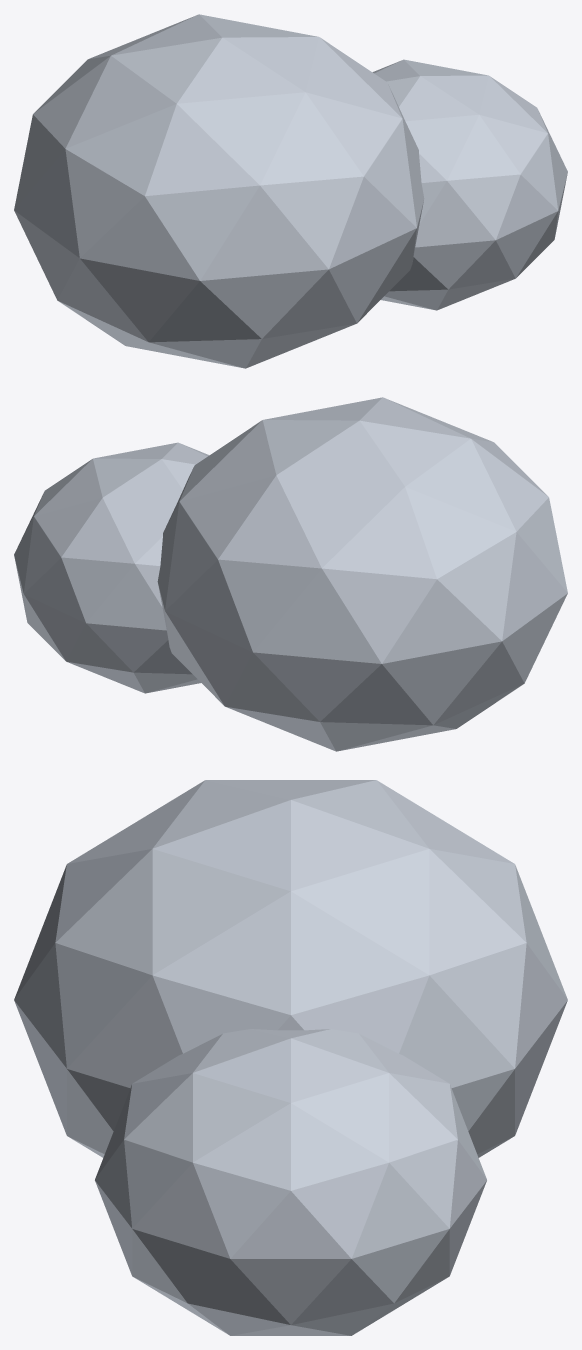
File: rock-type-A.fbx
3 views of the same model, one above another, from view 1: azimuth 30°, elevation 25°; view 2: azimuth 150°, elevation 25°; view 3: azimuth 270°, elevation 25° (orthographic). The views are drawn at different scales.
Visible parts, largest first — view 1: 3. rock-type-A; view 2: 3. rock-type-A; view 3: 3. rock-type-A.
Part boxes in pixels (x1,y1,x2,y2): 3. rock-type-A: (14,14,567,368); 3. rock-type-A: (14,397,567,751); 3. rock-type-A: (14,780,567,1335).
Bounding box in the file's own units: 1.77 × 1.04 × 1.31.
